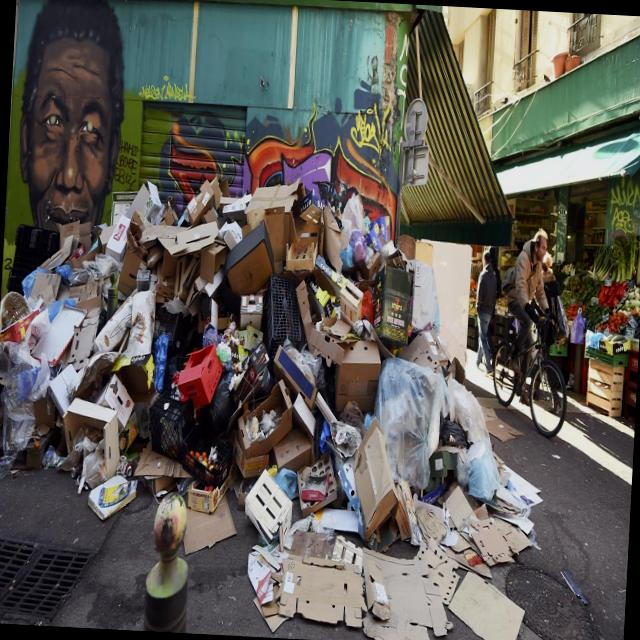garbage: (4, 90, 512, 628)
